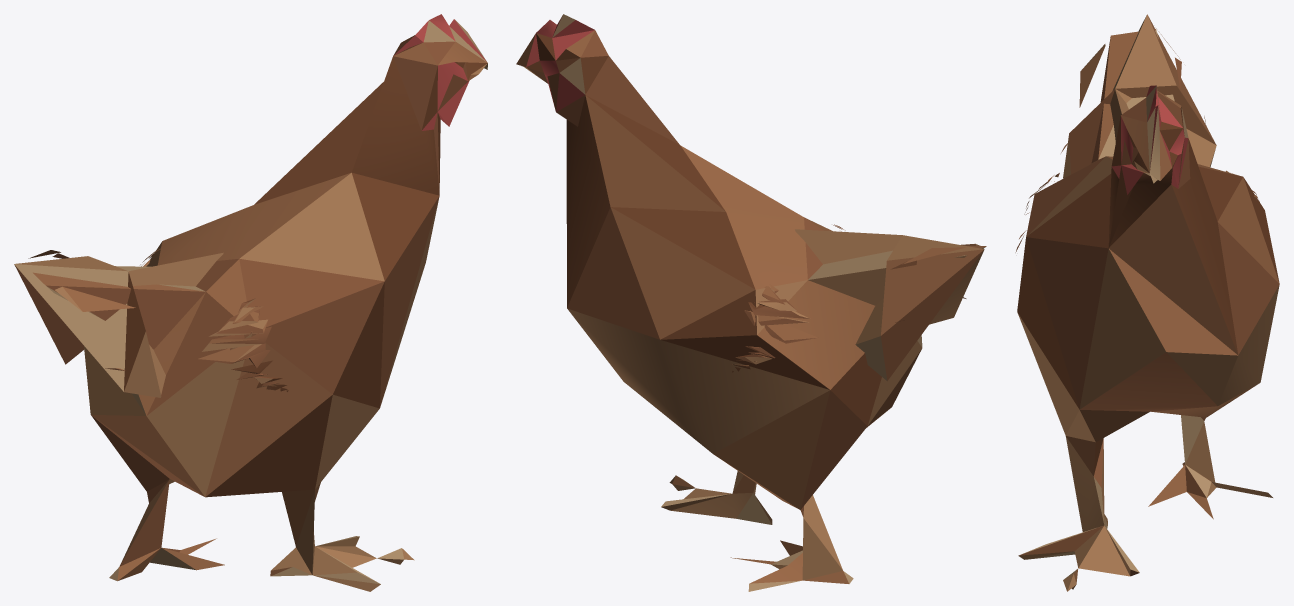
File: hen.glb
The picture shows the model from 3 angles, left to right: view 1: azimuth 30°, elevation 25°; view 2: azimuth 150°, elevation 25°; view 3: azimuth 270°, elevation 25°; orthographic projection. The views are drawn at different scales.
Parts seen in each view (by area): view 1: c4, c2, c1, c0, c3, c5; view 2: c0, c2, c1, c4, c3, c5; view 3: c2, c0, c4, c1, c3, c5.
Part boxes in pixels (box(x1,y1,x2,y2)): c4: box(14, 35, 467, 566); c2: box(16, 63, 487, 591); c1: box(124, 43, 487, 497); c0: box(28, 35, 487, 580); c3: box(14, 20, 487, 584); c5: box(393, 14, 486, 130); c0: box(516, 30, 986, 583); c2: box(523, 66, 984, 580); c1: box(526, 33, 881, 425); c4: box(547, 30, 983, 516); c3: box(552, 14, 985, 591); c5: box(526, 15, 594, 111); c2: box(1017, 14, 1279, 591); c0: box(1029, 16, 1279, 589); c4: box(1019, 37, 1279, 576); c1: box(1015, 107, 1279, 475); c3: box(1021, 15, 1215, 578); c5: box(1111, 85, 1188, 194).
Size of the model in its own units: 0.4437 by 0.4455 by 0.1963.
